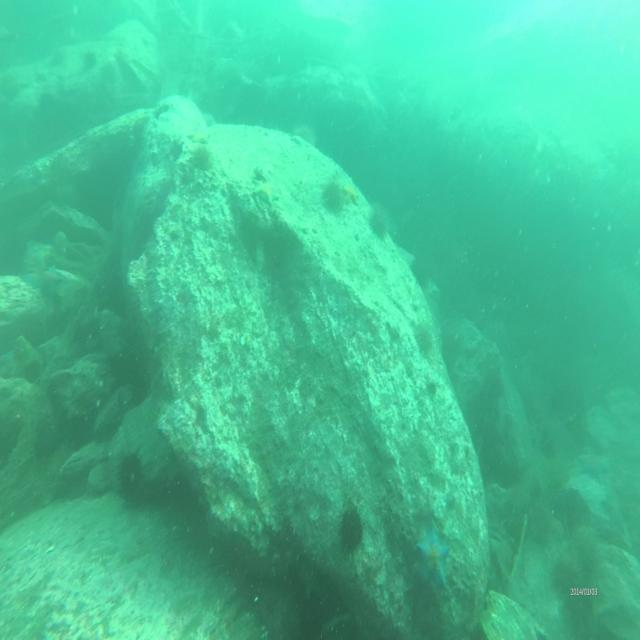echinus: (116, 449, 146, 512), (337, 501, 365, 554), (318, 177, 348, 218), (413, 318, 437, 362), (368, 204, 389, 243), (191, 142, 211, 172)
starfish: (414, 523, 451, 593)
